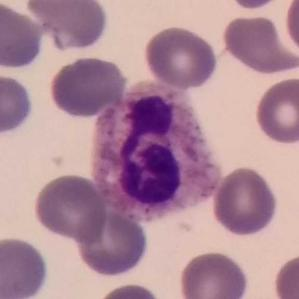Neutrophil: (82, 85, 226, 228)
RBC: (32, 171, 110, 244), (74, 207, 151, 279), (47, 54, 128, 118), (210, 164, 280, 238), (142, 24, 220, 90), (220, 13, 298, 76), (28, 0, 110, 54), (176, 248, 250, 299), (252, 74, 299, 147), (0, 234, 51, 299), (0, 0, 45, 71), (0, 71, 36, 139), (23, 0, 99, 24), (271, 250, 299, 299), (92, 281, 166, 299), (282, 1, 299, 56), (224, 0, 287, 11)
